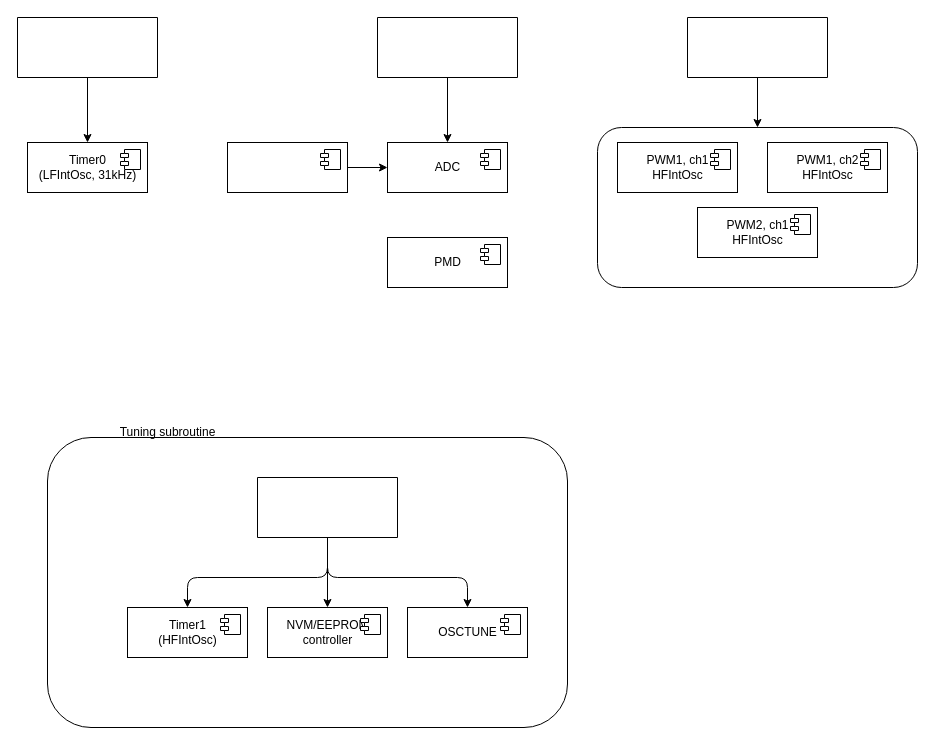
The diagram is 935 pixels wide and 745 high, and some of its shapes have lost their labels. Each missing label, with the centre of its shape:
LEDManager.c: pixel 757 47
SignalSampling.c: pixel 447 47
Sleep.c: pixel 87 47
Timer2 (HFIntOsc): pixel 287 167
tune.c: pixel 327 507
